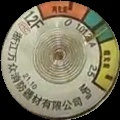green: (82, 8, 116, 44)
needle: (85, 26, 110, 47)
red: (38, 2, 89, 21)
yellow: (95, 38, 120, 95)
